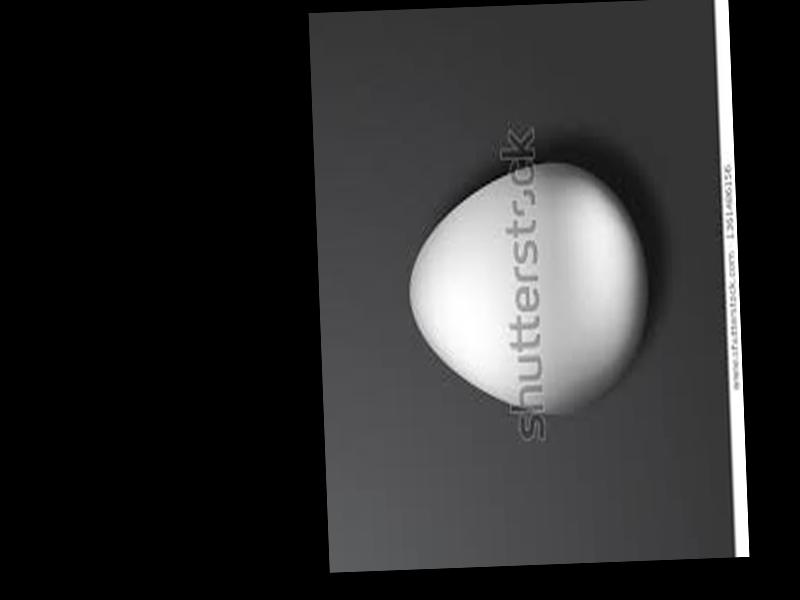Eggs: (403, 159, 650, 419)
